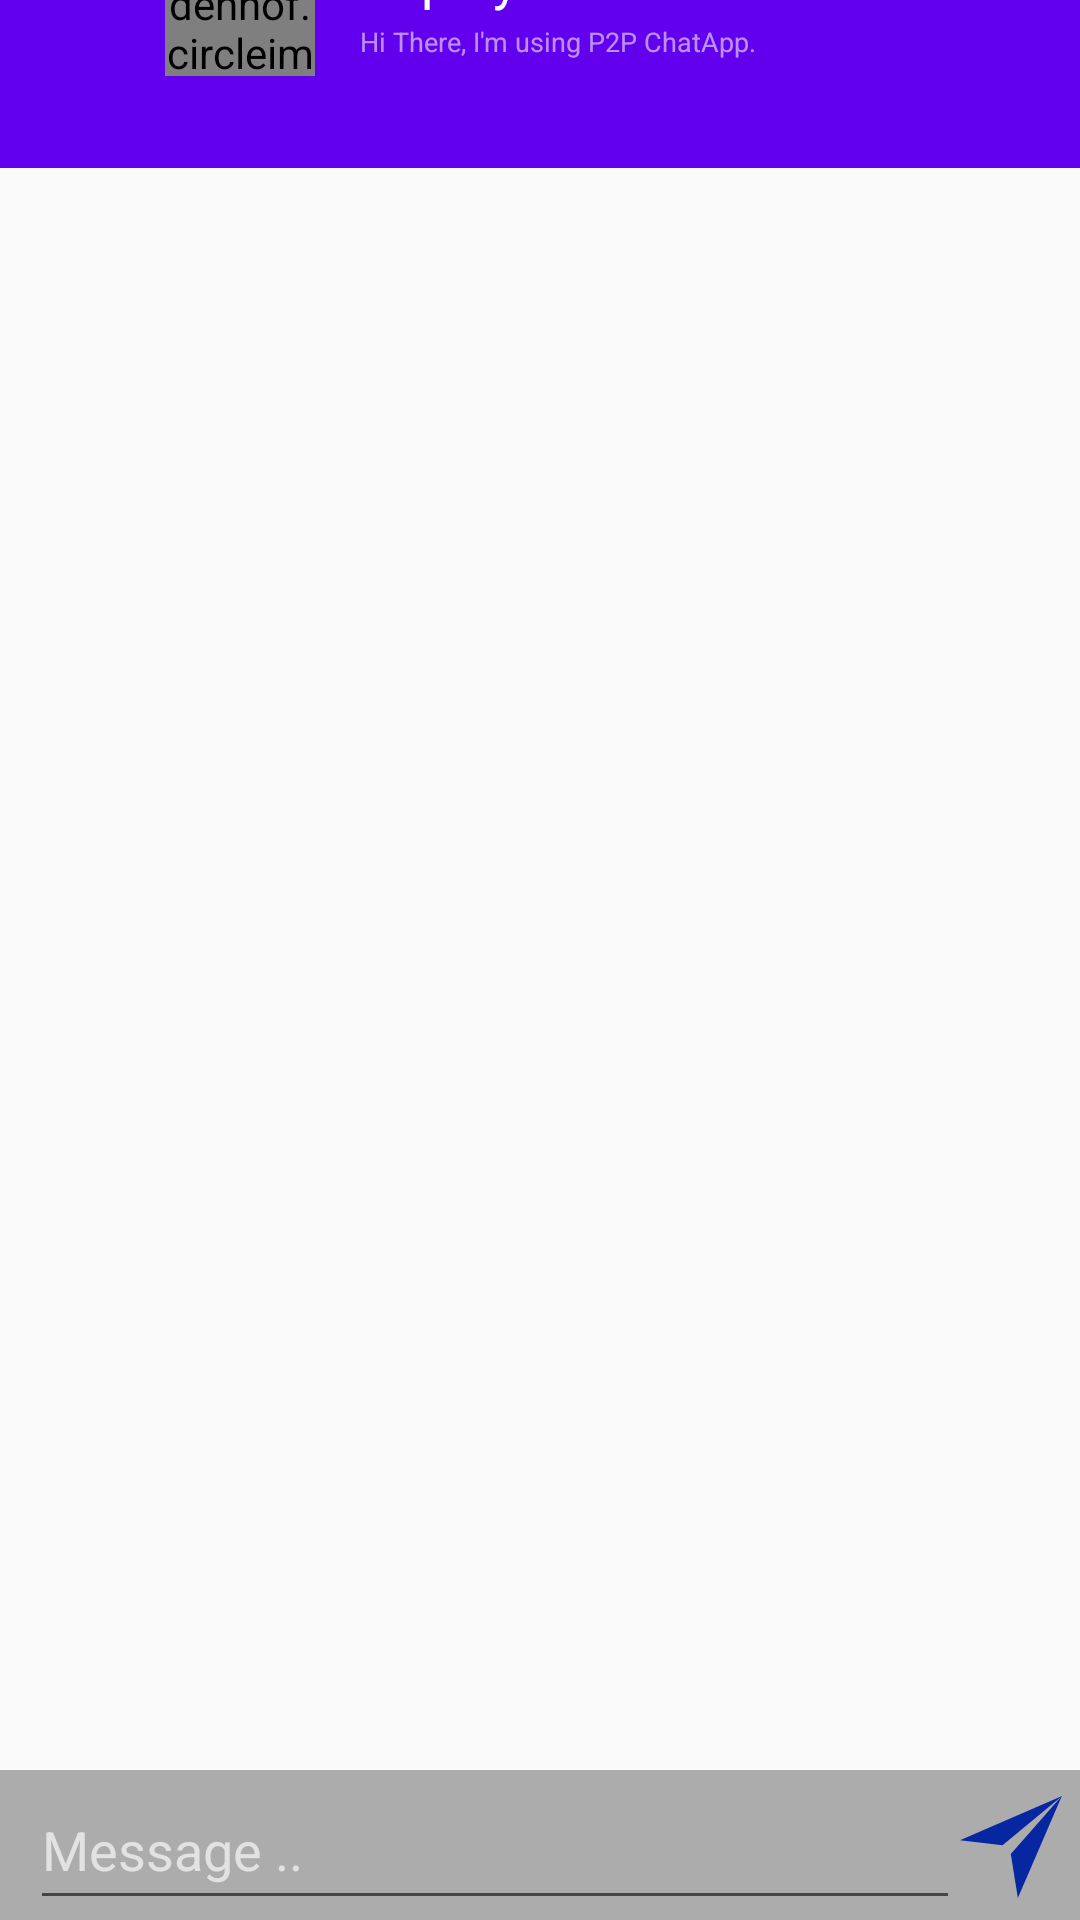

Icon bounding boxes for this 1080 × 1920 phone screenshot, format [x1,y1,x2,y2]:
Send: [960,1796,1062,1898]
